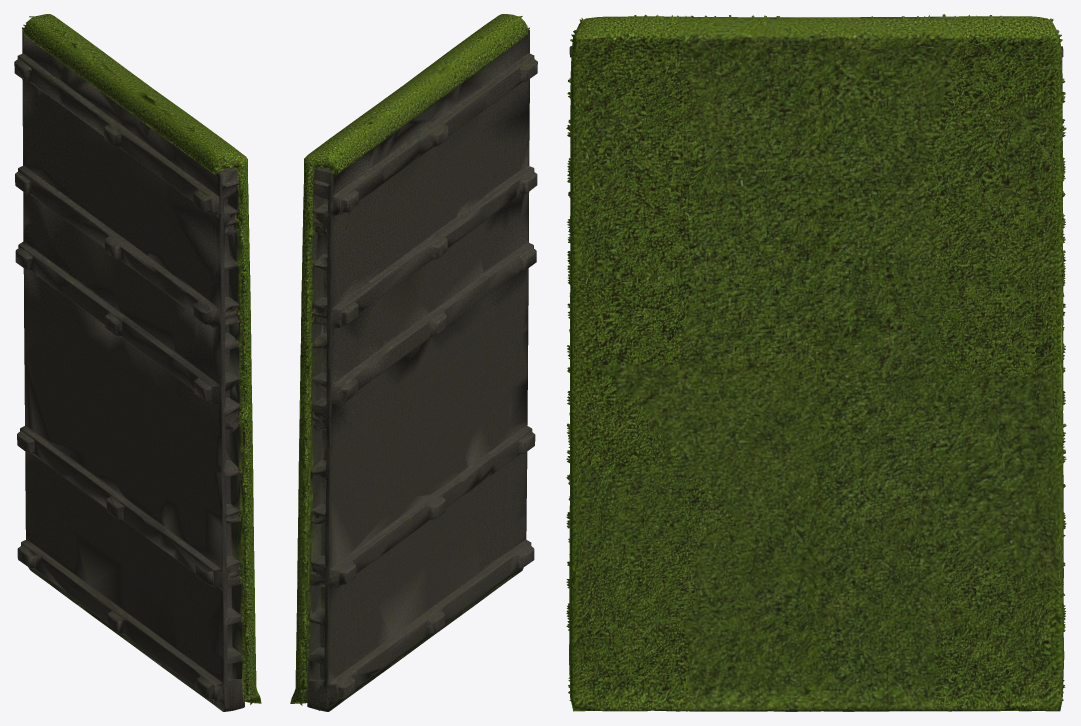
Rendered from pnl_turf.glb.
The picture shows the model from 3 angles, left to right: view 1: azimuth 30°, elevation 25°; view 2: azimuth 150°, elevation 25°; view 3: azimuth 270°, elevation 25°; orthographic projection. The views are drawn at different scales.
Parts seen in each view (by area): view 1: tripo_node_8234d077-fc7a-4c50-81f5-bc581e07ed67; view 2: tripo_node_8234d077-fc7a-4c50-81f5-bc581e07ed67; view 3: tripo_node_8234d077-fc7a-4c50-81f5-bc581e07ed67.
Part boxes in pixels (x1,y1,x2,y2): tripo_node_8234d077-fc7a-4c50-81f5-bc581e07ed67: (14,14,261,711); tripo_node_8234d077-fc7a-4c50-81f5-bc581e07ed67: (290,14,537,711); tripo_node_8234d077-fc7a-4c50-81f5-bc581e07ed67: (566,14,1066,711).
Bounding box in the file's own units: 0.091 × 0.8991 × 0.5981.
1 material, 1 textured.
